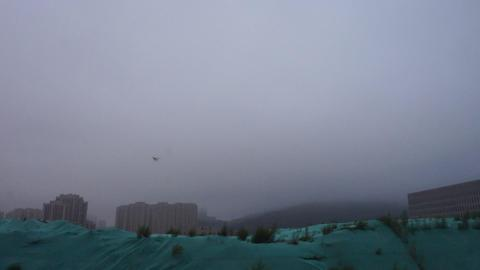UAV: (150, 156, 162, 162)
